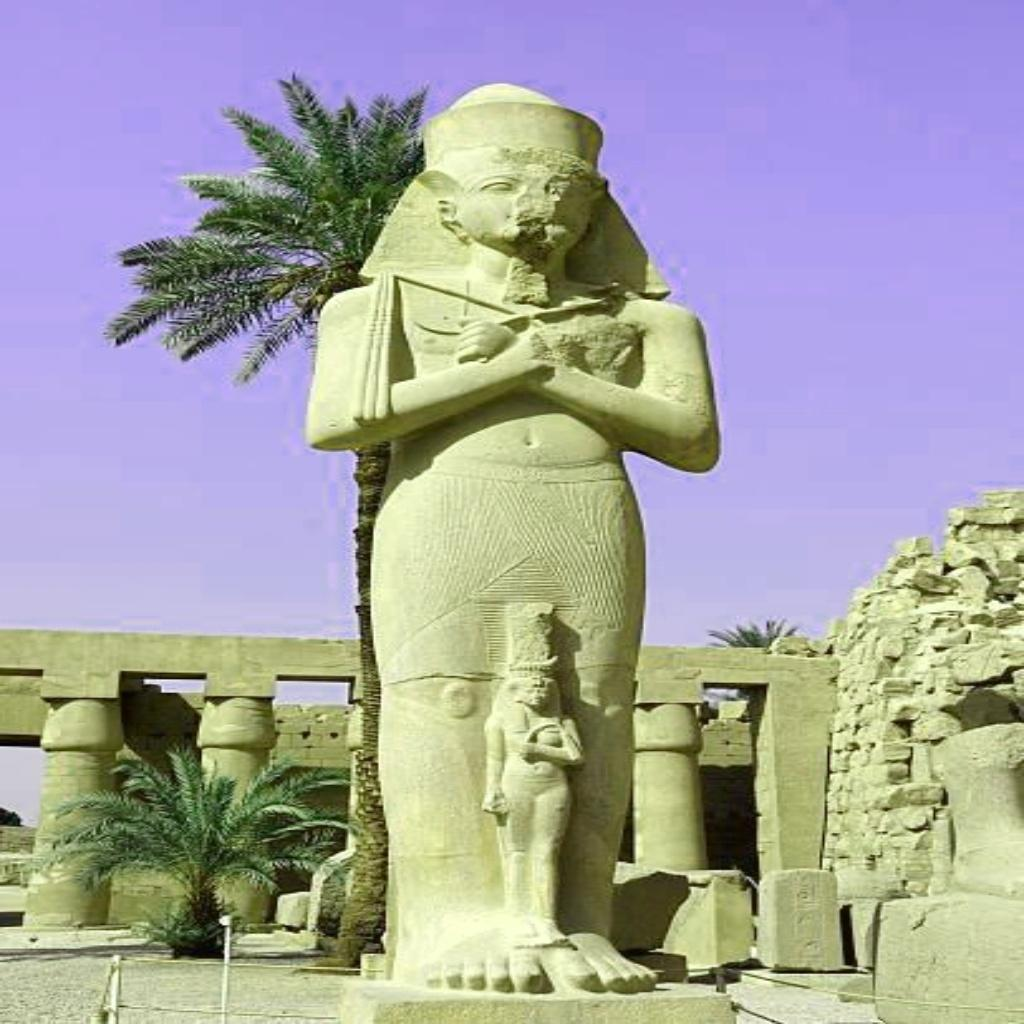Standing Statue of King Ramses II: (300, 80, 724, 996)
